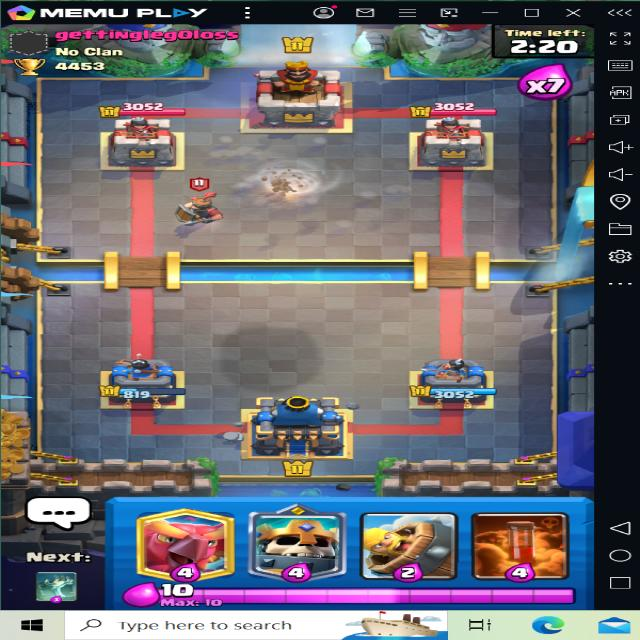royal-recruits: (173, 176, 226, 226)
tornado: (208, 138, 384, 226)
